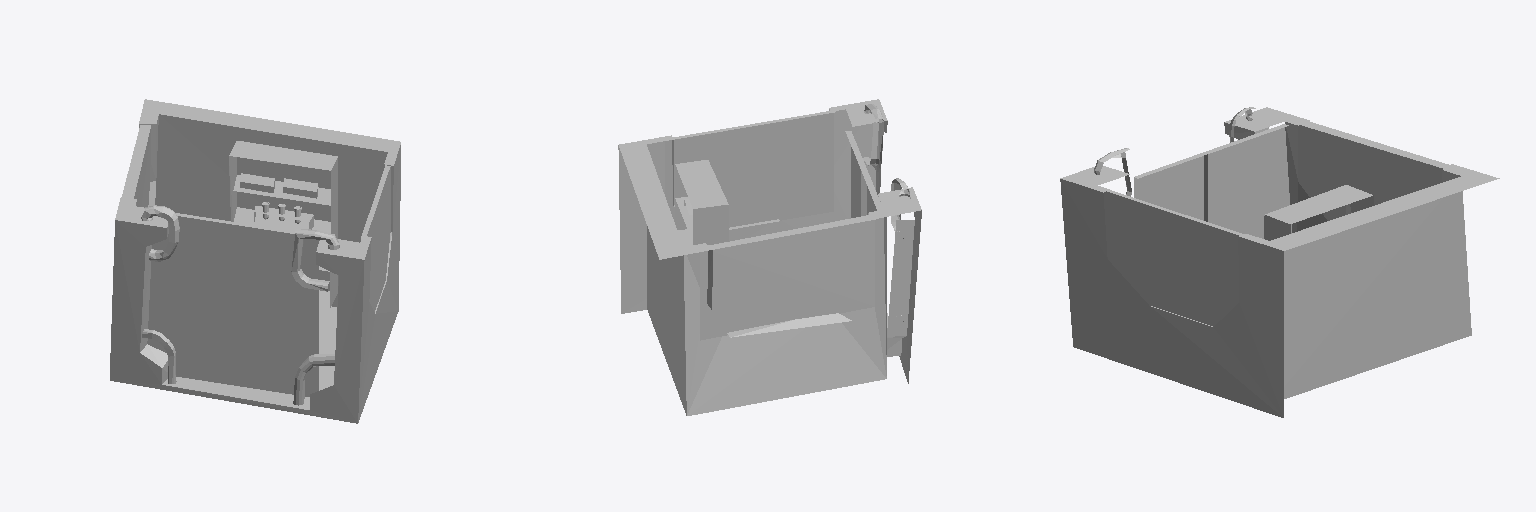
The model's file is germetik_camera_on.obj.
3 views of the same model, side by side, from view 1: azimuth 30°, elevation 25°; view 2: azimuth 150°, elevation 25°; view 3: azimuth 270°, elevation 25° (orthographic).
Visible parts, largest first — view 1: germetik_camera_on; view 2: germetik_camera_on; view 3: germetik_camera_on.
Boxes of the visible parts, x1,y1,x2,y2 form: germetik_camera_on: [110, 99, 400, 423]; germetik_camera_on: [618, 99, 921, 415]; germetik_camera_on: [1060, 107, 1499, 417].
Bounding box in the file's own units: 8.67 × 5.16 × 11.18.